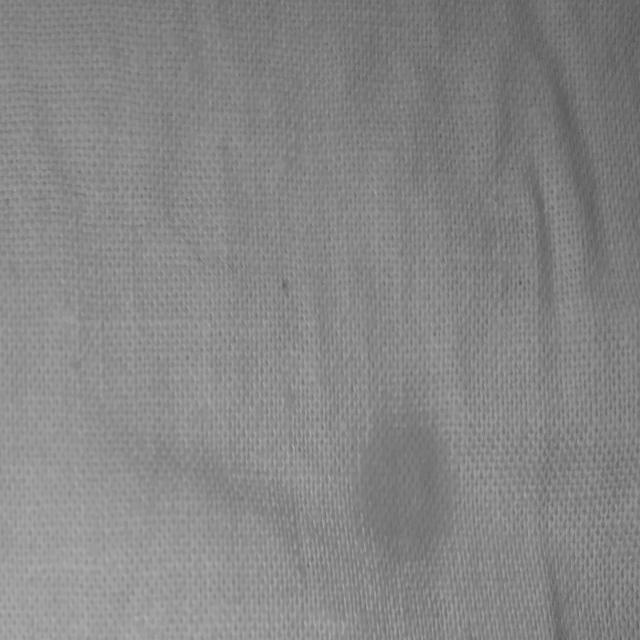Stain: (361, 412, 454, 548)
